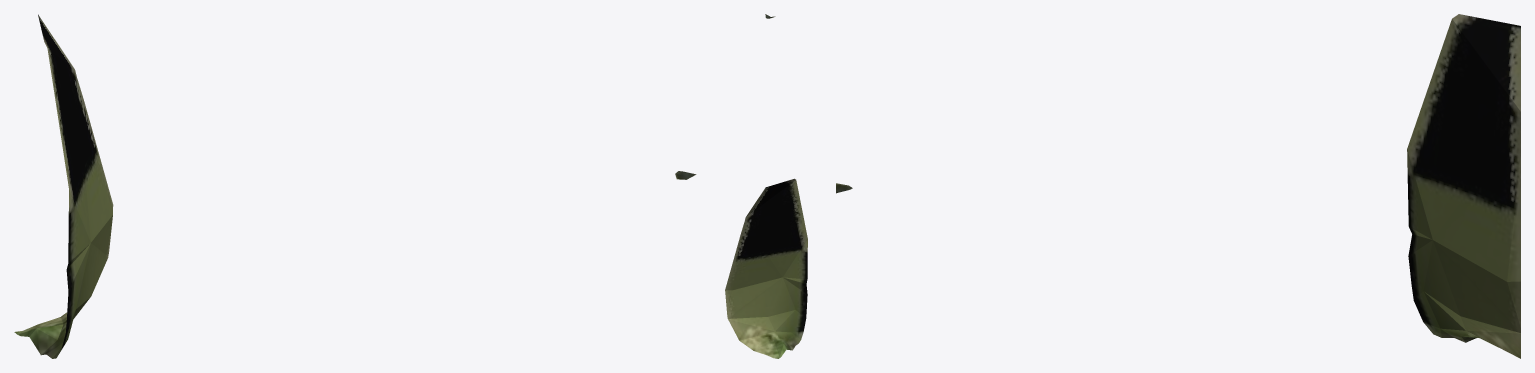
3 renders of one model, left to right at view 1: azimuth 30°, elevation 25°; view 2: azimuth 150°, elevation 25°; view 3: azimuth 270°, elevation 25°, orthographic. The views are drawn at different scales.
Size of the model in its own units: 7.31 by 6.25 by 11.8.
1 material, 1 textured.
